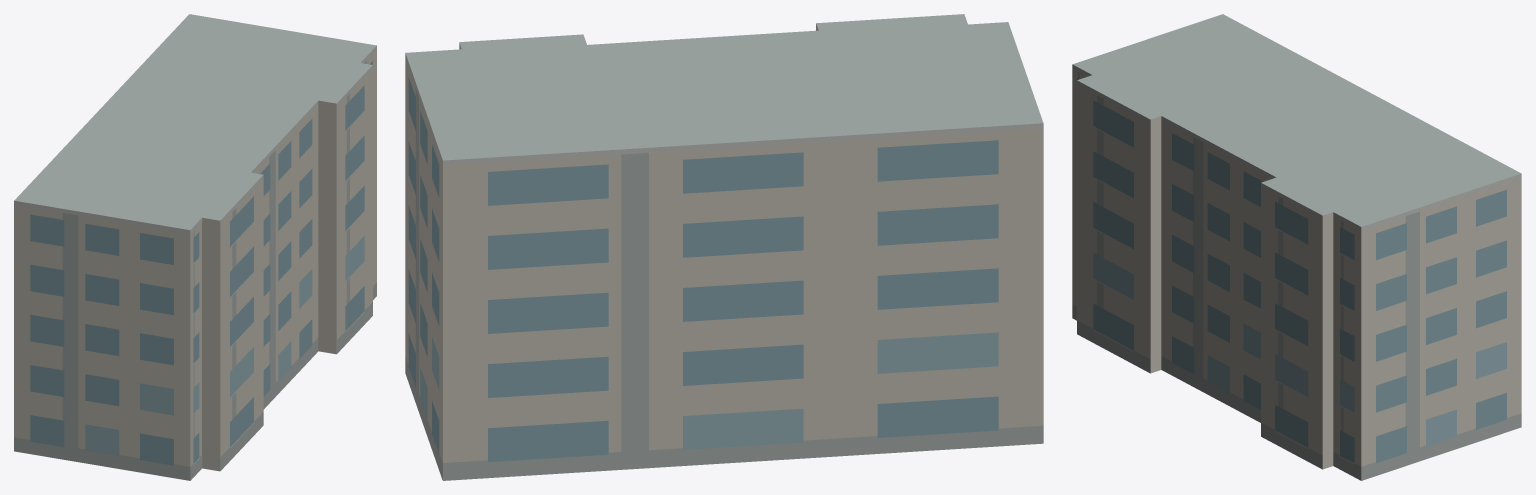
Rendered from residential-925e288f-6923-4145-9123-4c0c90050d6a.glb.
3 renders of one model, left to right at view 1: azimuth 30°, elevation 25°; view 2: azimuth 150°, elevation 25°; view 3: azimuth 270°, elevation 25°, orthographic. The views are drawn at different scales.
Parts seen in each view (by area): view 1: residential-925e288f-6923-4145-9123-4c0c90050d6a.tmp; view 2: residential-925e288f-6923-4145-9123-4c0c90050d6a.tmp; view 3: residential-925e288f-6923-4145-9123-4c0c90050d6a.tmp.
Part boxes in pixels (<box>): residential-925e288f-6923-4145-9123-4c0c90050d6a.tmp: <box>14,14,376,480</box>; residential-925e288f-6923-4145-9123-4c0c90050d6a.tmp: <box>405,14,1043,480</box>; residential-925e288f-6923-4145-9123-4c0c90050d6a.tmp: <box>1072,14,1521,480</box>.
Bounding box in the file's own units: 27.45 × 15.25 × 24.46.
